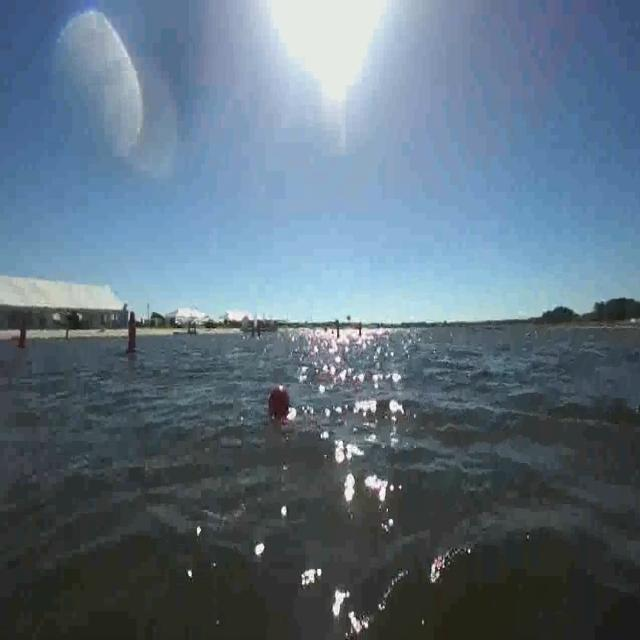red-buoy: (266, 384, 293, 426)
red-column-buoy: (126, 312, 141, 359), (17, 321, 28, 351)
